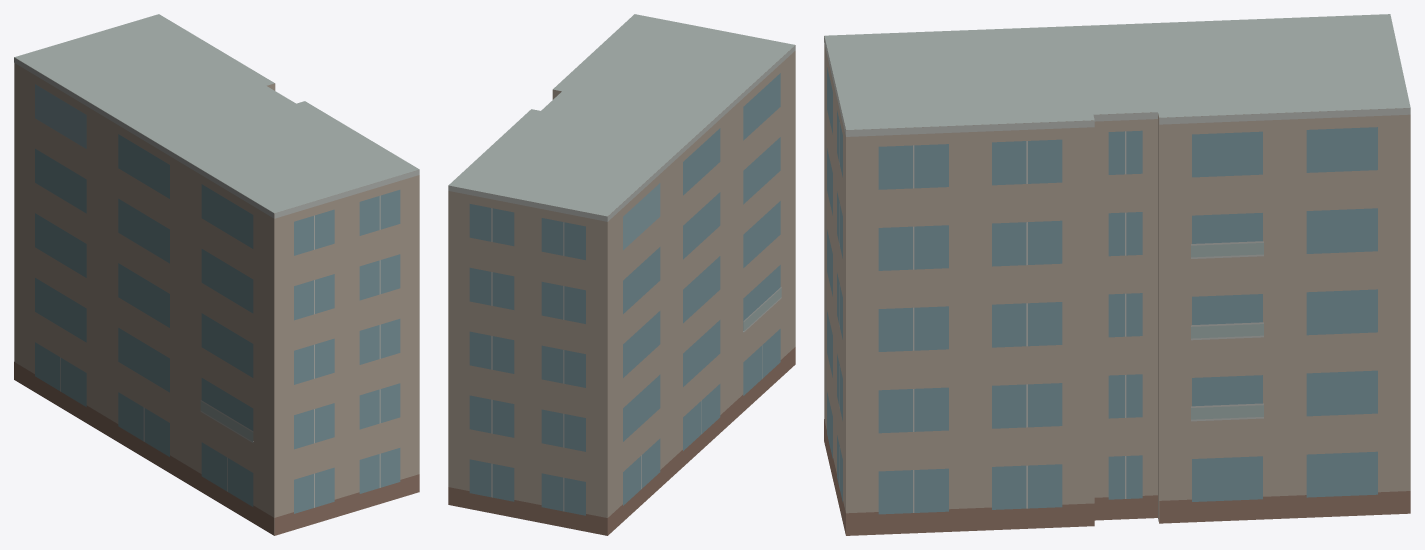
Rendered from survey-upis-32663097.glb.
3 renders of one model, left to right at view 1: azimuth 30°, elevation 25°; view 2: azimuth 150°, elevation 25°; view 3: azimuth 270°, elevation 25°, orthographic. The views are drawn at different scales.
Visible parts, largest first — view 1: survey-upis-32663097.tmp; view 2: survey-upis-32663097.tmp; view 3: survey-upis-32663097.tmp.
Part boxes in pixels (x1,y1,x2,y2): survey-upis-32663097.tmp: [14, 14, 419, 535]; survey-upis-32663097.tmp: [448, 14, 795, 535]; survey-upis-32663097.tmp: [824, 14, 1410, 535].
Bounding box in the file's own units: 8.85 × 14.4 × 18.87.
